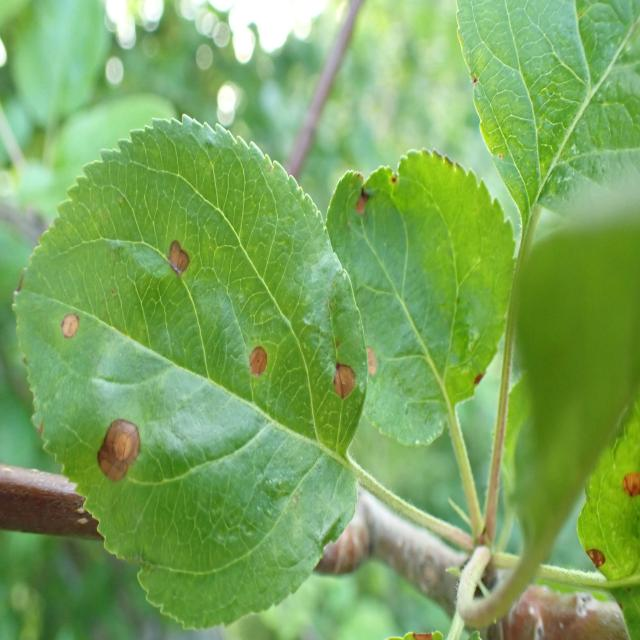Black Rot: (90, 415, 146, 491), (160, 225, 200, 302), (332, 174, 379, 227), (242, 331, 281, 393), (325, 348, 357, 420), (45, 302, 86, 353), (570, 532, 610, 581), (614, 446, 640, 517), (363, 346, 393, 391)
